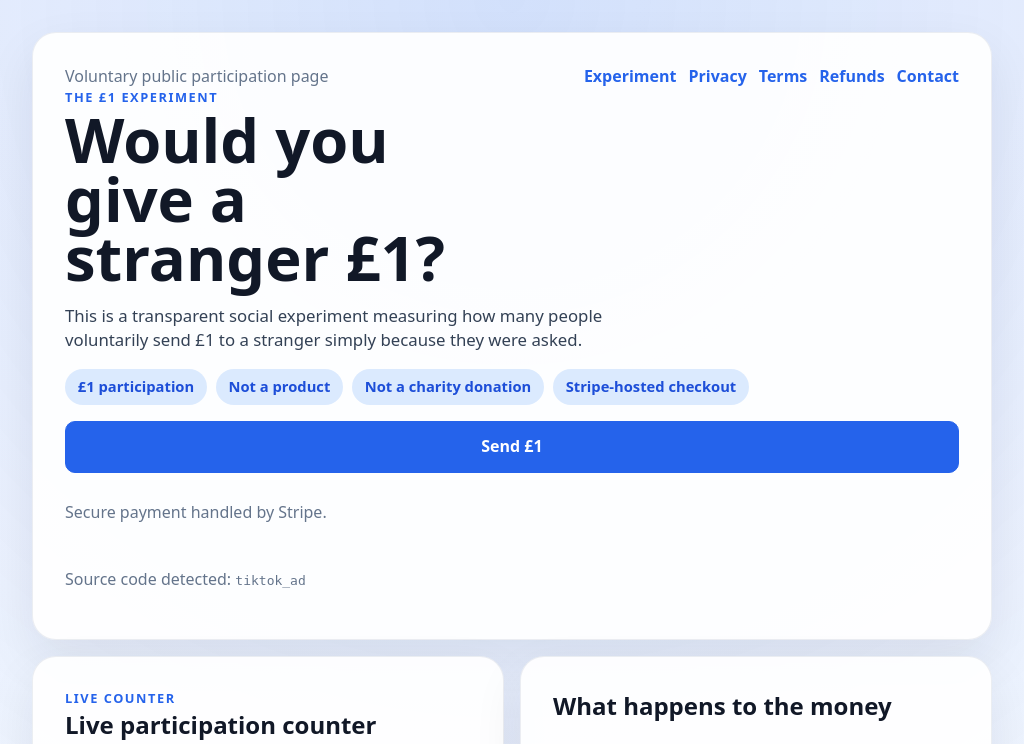
Scenario: Public experiment landing page › normalizes source and referral codes and redirects using the returned checkout URL
Click the button "Send £1" at (512, 447), box [65,421,959,473]
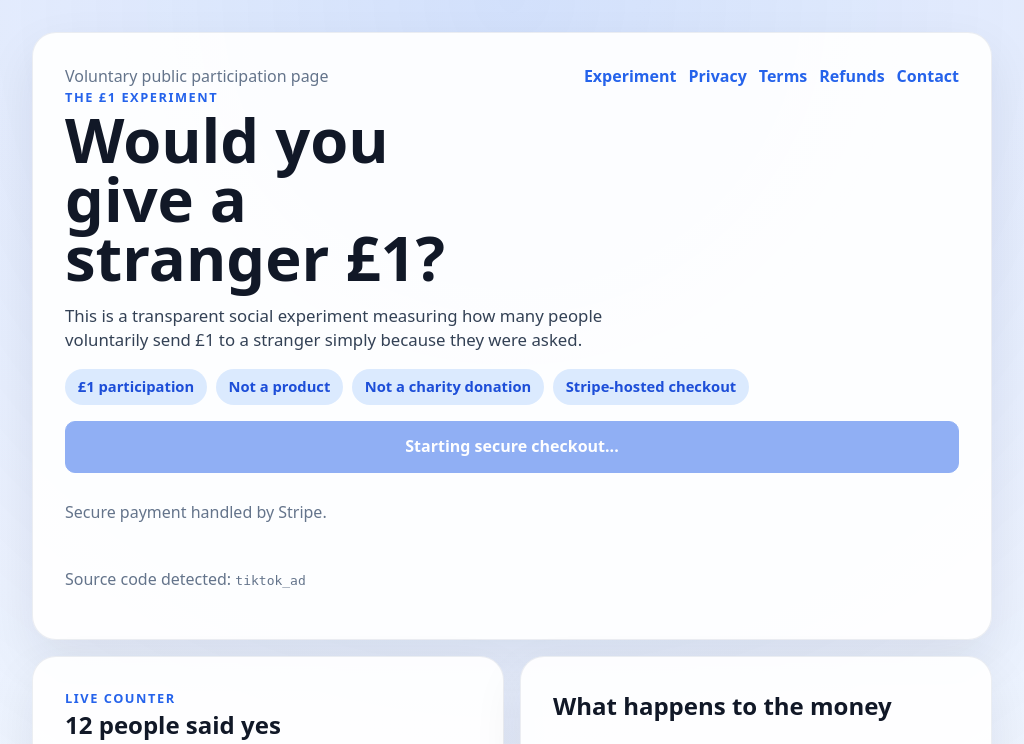
Now the button "Starting secure checkout..." is shown, box [65,421,959,473]
